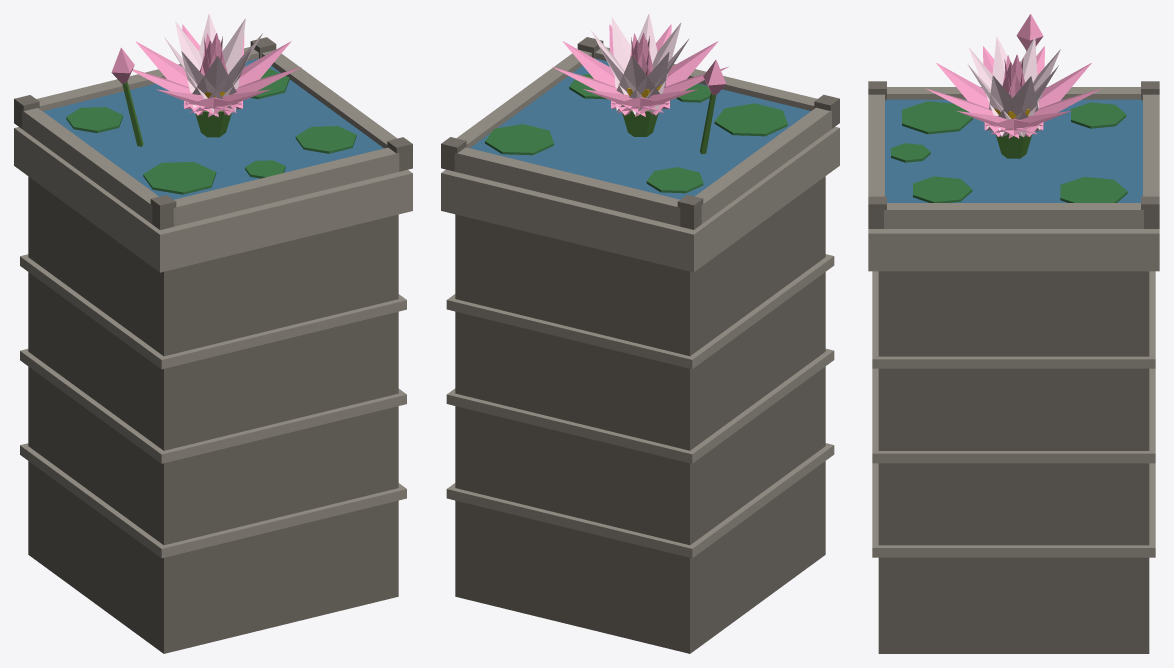
The model's file is decor_giant_lotus.glb.
3 views of the same model, side by side, from view 1: azimuth 30°, elevation 25°; view 2: azimuth 150°, elevation 25°; view 3: azimuth 270°, elevation 25° (orthographic).
Visible parts, largest first — view 1: decor_giant_lotus; view 2: decor_giant_lotus; view 3: decor_giant_lotus.
Boxes of the visible parts, x1,y1,x2,y2 form: decor_giant_lotus: [14, 14, 412, 653]; decor_giant_lotus: [441, 14, 839, 653]; decor_giant_lotus: [868, 14, 1159, 653].
Size of the model in its own units: 2.8 by 5.74 by 2.8.
